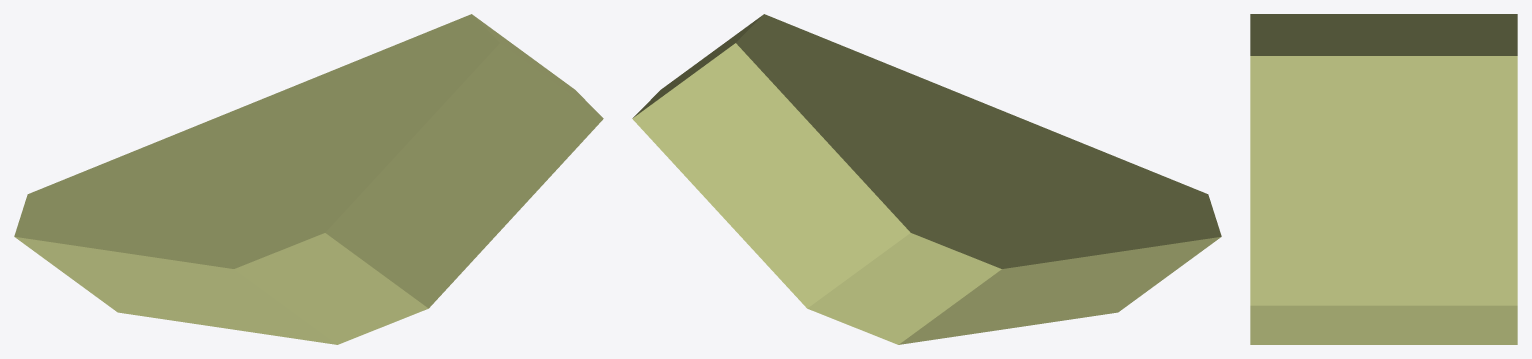
3 views of the same model, side by side, from view 1: azimuth 30°, elevation 25°; view 2: azimuth 150°, elevation 25°; view 3: azimuth 270°, elevation 25° (orthographic). The views are drawn at different scales.
Visible parts, largest first — view 1: 0_0_1_3_1_1_3_2_3; view 2: 0_0_1_3_1_1_3_2_3; view 3: 0_0_1_3_1_1_3_2_3.
Part boxes in pixels (left/top/right/bottom): 0_0_1_3_1_1_3_2_3: left=14, top=14, right=603, bottom=344; 0_0_1_3_1_1_3_2_3: left=632, top=14, right=1221, bottom=344; 0_0_1_3_1_1_3_2_3: left=1250, top=14, right=1517, bottom=344.
Bounding box in the file's own units: 16.25 × 6.3 × 6.
